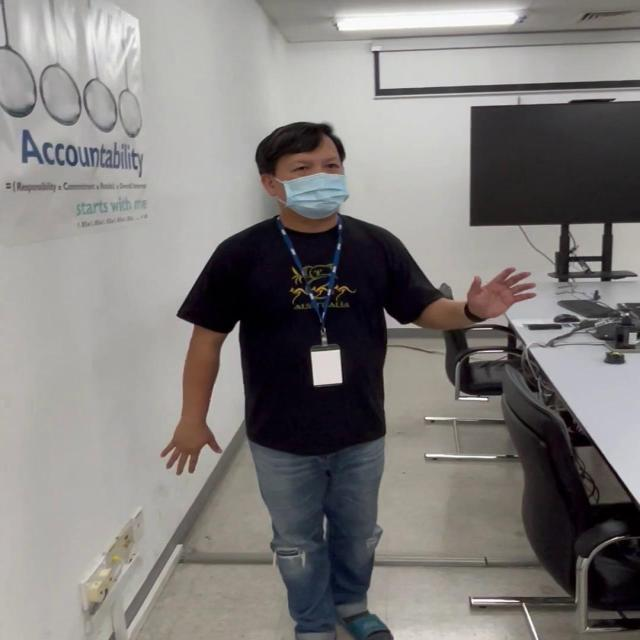bare_hand: (156, 414, 222, 478), (466, 263, 537, 320)
